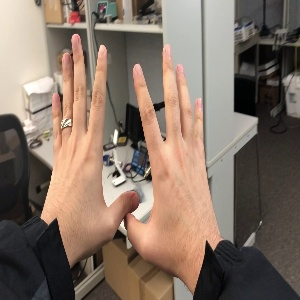hand: (127, 44, 220, 263), (43, 33, 140, 239)
